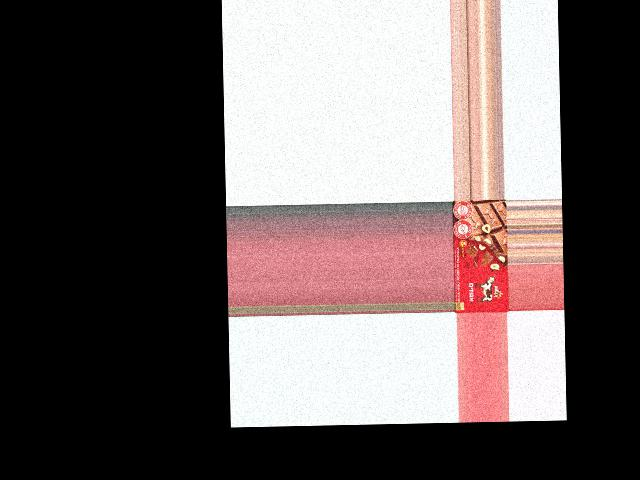chocolate: (453, 200, 508, 313)
